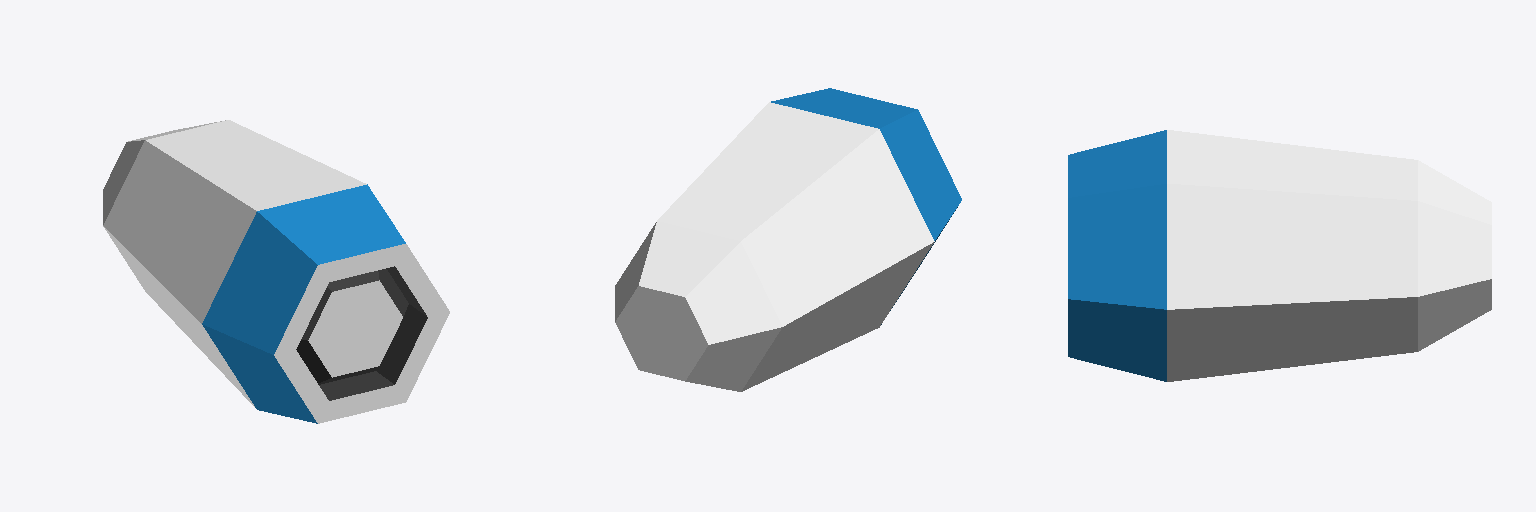
File: miningArm.obj
The picture shows the model from 3 angles: view 1: azimuth 30°, elevation 25°; view 2: azimuth 150°, elevation 25°; view 3: azimuth 270°, elevation 25°; orthographic projection.
Size of the model in its own units: 0.462 by 0.3973 by 0.7695.